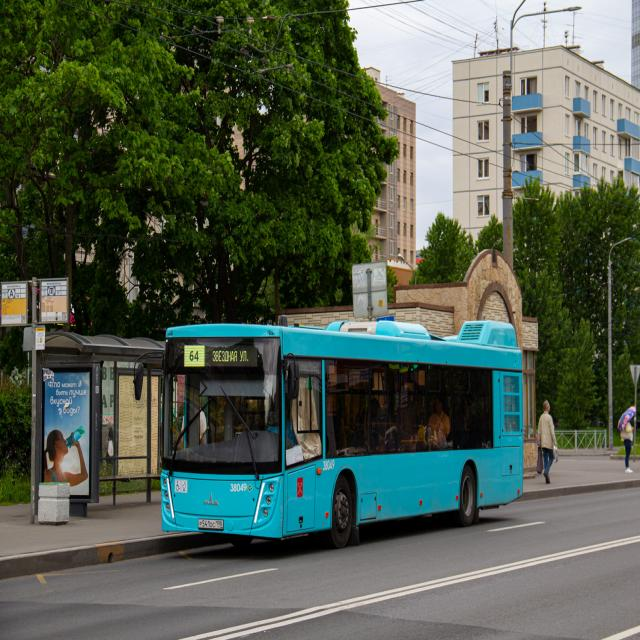number-of-bus: (189, 349, 201, 364)
